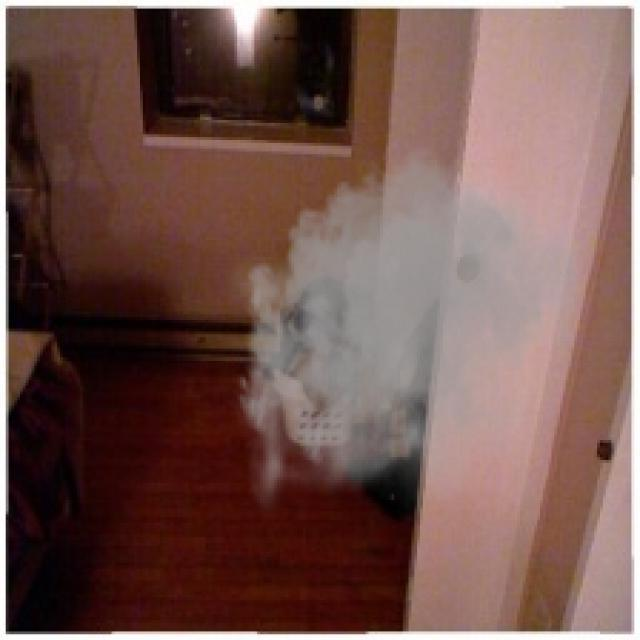Smoke: (219, 134, 592, 523)
